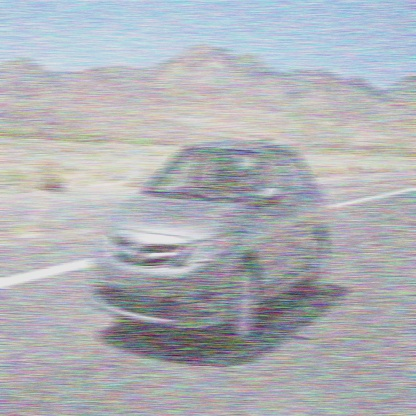Vehicle: (89, 137, 335, 352)
